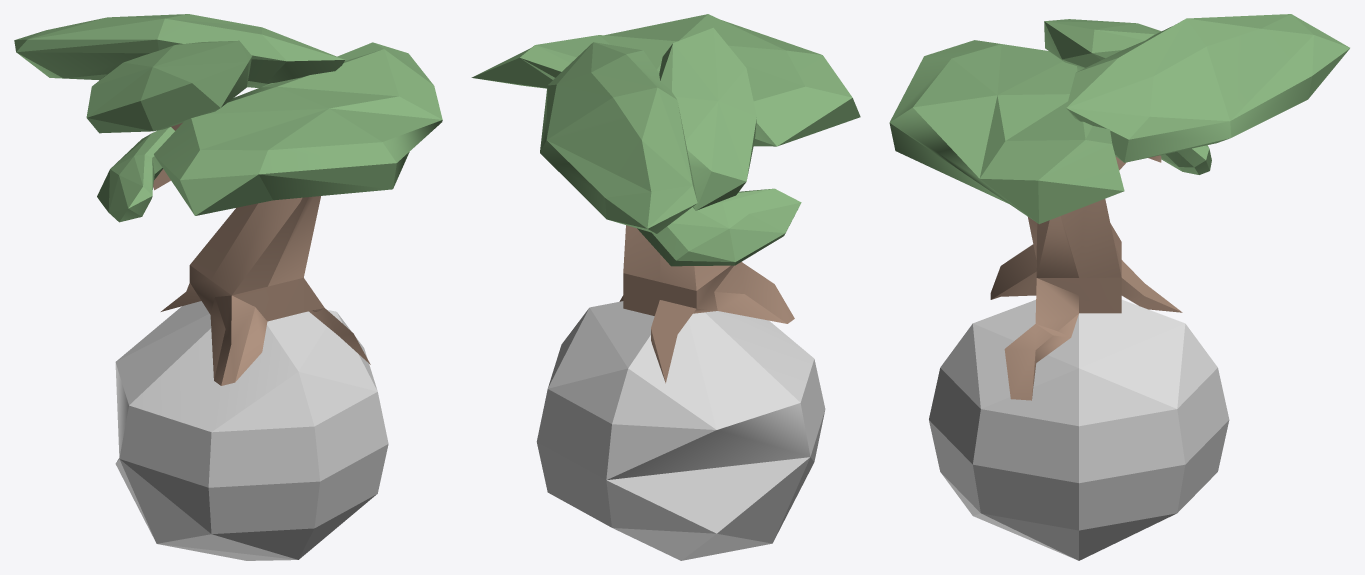
The model's file is Tree03Decimated.fbx.
The picture shows the model from 3 angles, left to right: view 1: azimuth 30°, elevation 25°; view 2: azimuth 150°, elevation 25°; view 3: azimuth 270°, elevation 25°; orthographic projection. The views are drawn at different scales.
Visible parts, largest first — view 1: polySurface2; view 2: polySurface2; view 3: polySurface2.
Part boxes in pixels (x1,y1,x2,y2): polySurface2: [14, 14, 442, 560]; polySurface2: [471, 14, 860, 560]; polySurface2: [889, 14, 1349, 560].
Bounding box in the file's own units: 0.9056 × 1.43 × 1.14.
